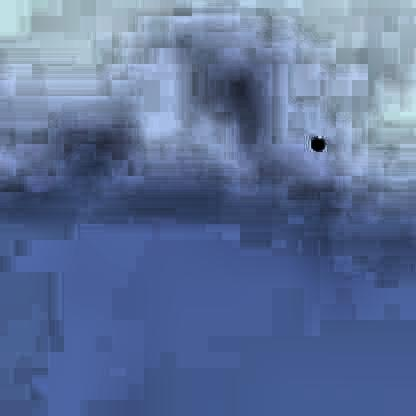golfball: (306, 131, 322, 149)
